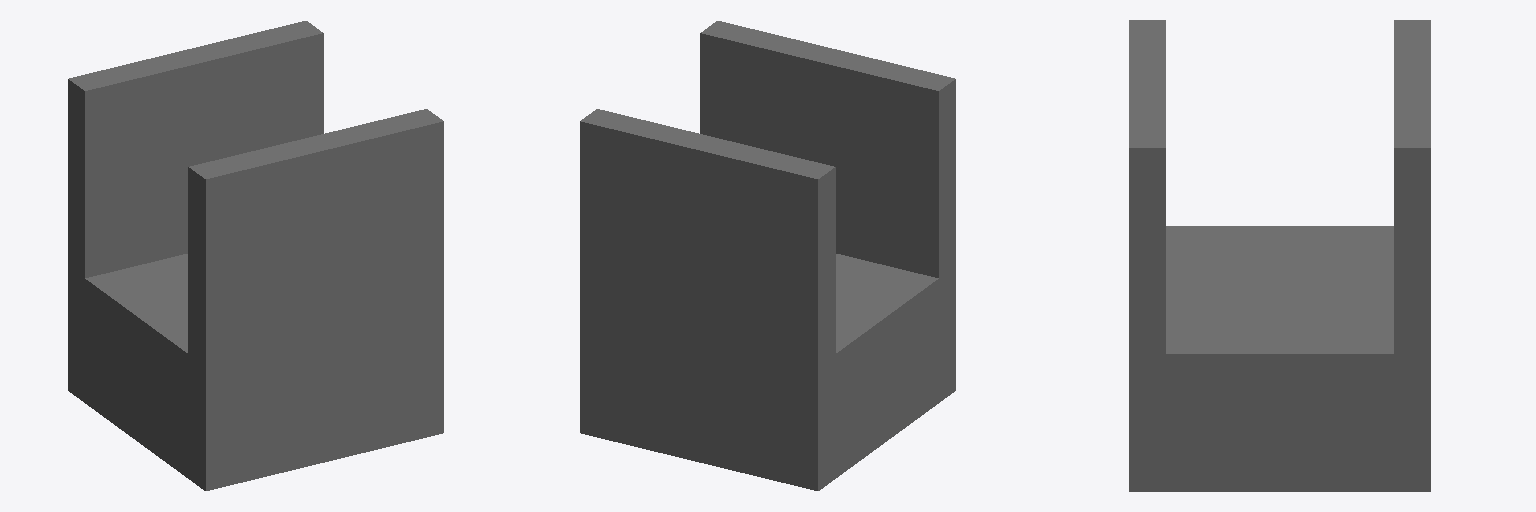
robot.urdf — cube_cubby:
<robot name="cube_cubby">
<link name="cube_cubby">
<visual>
<origin xyz="0 0 0.024999999999999994449" rpy="0 -0 0" />
<geometry>
<mesh filename="horizontal_wall_shapes/cube_cubby.obj"/>
</geometry>
<material name="cube_cubby_material">
<color rgba="0.49803921568627451677 0.49803921568627451677 0.49803921568627451677 1.0"/>
</material>
</visual>
<collision>
<origin xyz="0 0 0.024999999999999994449" rpy="0 -0 0" />
<geometry>
<mesh filename="horizontal_wall_shapes/cube_cubby.obj"/>
</geometry>
</collision>
<inertial>
<origin xyz="0 1.108843130951083548e-17 -0.015909090909090879695" rpy="0 0 0"/>
<mass value="100" />
<inertia ixx="0.3712325757575759555" ixy="0"  ixz="0" iyy="0.3205700757575759563" iyz="0" izz="0.33372916666666685437" />
</inertial>
</link>


</robot>

--- What the picture shows (computed from the rendered views, not written in the file) ---
Views: 3 orthographic renders of the robot side by side, from view 1: azimuth 30°, elevation 25°; view 2: azimuth 150°, elevation 25°; view 3: azimuth 270°, elevation 25°.
Model cube_cubby with 1 links and 0 joints (none), rooted at cube_cubby, posed all joints at 0.
Visible links, largest first — view 1: cube_cubby; view 2: cube_cubby; view 3: cube_cubby.
Boxes of the visible links, x1,y1,x2,y2 form: cube_cubby: (68,21,443,490); cube_cubby: (580,21,955,490); cube_cubby: (1129,20,1430,491).
Bounding box of the posed robot: 0.2 × 0.2 × 0.25 m (x, y, z).
Meshes: 1 distinct files referenced, 1 mesh visuals loaded (1 OBJ).